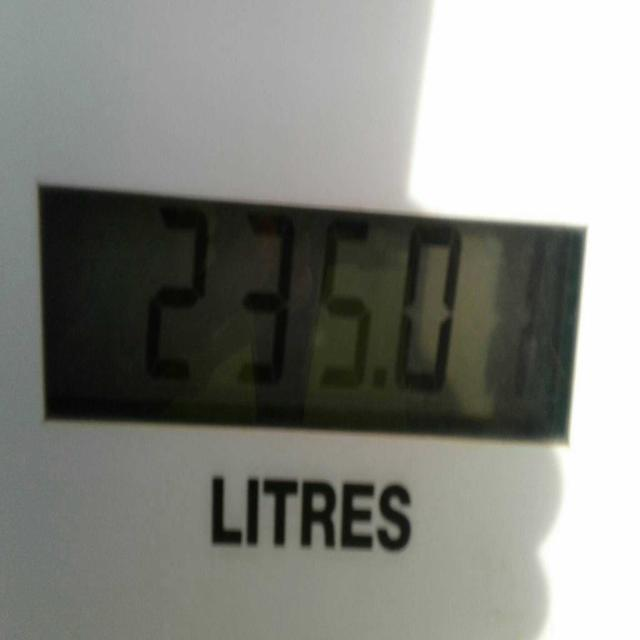.: (372, 354, 386, 410)
0: (394, 217, 471, 406)
1: (505, 221, 547, 405)
2: (146, 199, 212, 387)
3: (236, 198, 304, 416)
5: (310, 210, 374, 410)
